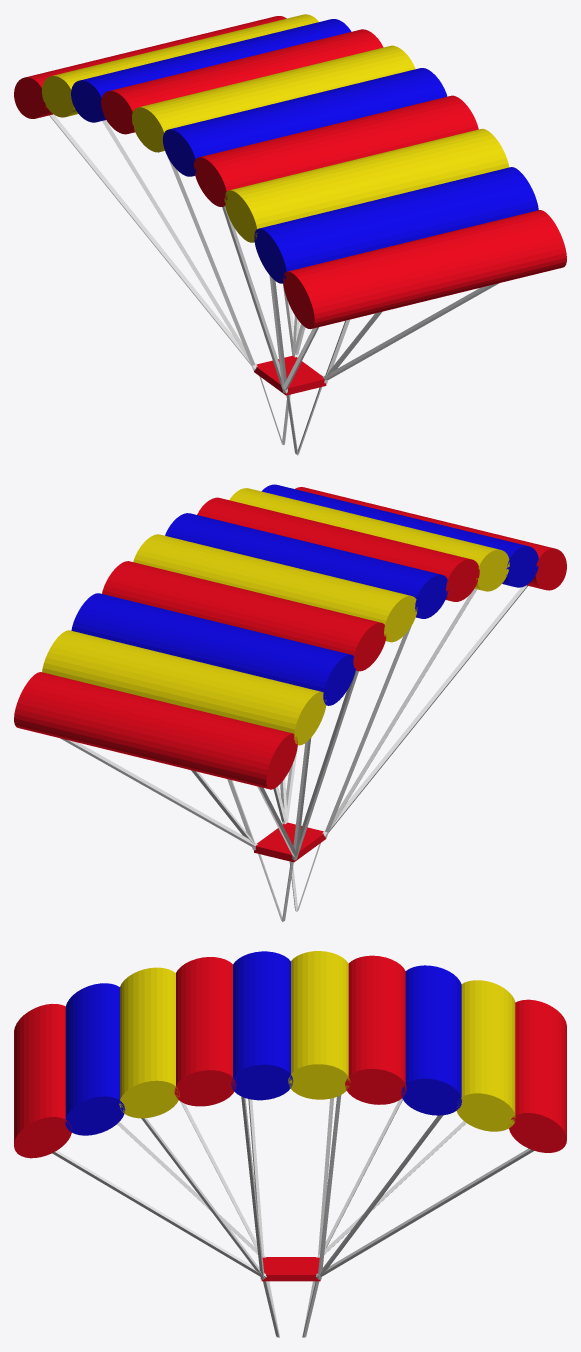
Rendered from Parachute.fbx.
3 views of the same model, one above another, from view 1: azimuth 30°, elevation 25°; view 2: azimuth 150°, elevation 25°; view 3: azimuth 270°, elevation 25° (orthographic). The views are drawn at different scales.
Visible parts, largest first — view 1: Cylinder, Cylinder.001, Cylinder.002, Cylinder.003, Cylinder.004, Cylinder.005, Cylinder.006, Cylinder.007, Cylinder.008, Cube.001, Cylinder.009, Cube.002 (+3 smaller); view 2: Cylinder.009, Cylinder.008, Cylinder.007, Cylinder.006, Cylinder.005, Cylinder.004, Cylinder.003, Cylinder.002, Cylinder.001, Cube.001, Cube.002, Cube.003 (+3 smaller); view 3: Cylinder.006, Cylinder.004, Cylinder.005, Cylinder.003, Cylinder.007, Cylinder.002, Cylinder.001, Cylinder.008, Cylinder, Cylinder.009, Cube.001, Cube.003 (+3 smaller).
Part boxes in pixels (x1,y1,x2,y2): Cylinder: (283, 210, 566, 329); Cylinder.001: (254, 167, 538, 283); Cylinder.002: (224, 128, 509, 242); Cylinder.003: (193, 95, 478, 206); Cylinder.004: (162, 68, 447, 176); Cylinder.005: (132, 45, 415, 152); Cylinder.006: (101, 29, 383, 134); Cylinder.007: (71, 19, 351, 122); Cylinder.008: (42, 14, 318, 117); Cube.001: (49, 114, 498, 390); Cylinder.009: (14, 16, 286, 118); Cube.002: (168, 158, 349, 393); Cylinder.009: (14, 672, 297, 789); Cylinder.008: (42, 630, 326, 745); Cylinder.007: (71, 593, 355, 705); Cylinder.006: (102, 561, 386, 671); Cylinder.005: (133, 534, 417, 642); Cylinder.004: (165, 513, 448, 618); Cylinder.003: (197, 497, 479, 601); Cylinder.002: (229, 488, 509, 591); Cylinder.001: (261, 484, 538, 587); Cube.001: (60, 585, 527, 857); Cube.002: (227, 626, 411, 860); Cube.003: (191, 588, 476, 855); Cylinder.006: (345, 955, 406, 1104); Cylinder.004: (231, 951, 293, 1100); Cylinder.005: (288, 951, 350, 1099); Cylinder.003: (174, 957, 236, 1106); Cylinder.007: (401, 965, 461, 1115); Cylinder.002: (119, 967, 179, 1118); Cylinder.001: (65, 983, 125, 1135); Cylinder.008: (456, 980, 515, 1131); Cylinder: (14, 1004, 71, 1158); Cylinder.009: (509, 999, 566, 1152); Cube.001: (52, 1121, 534, 1277); Cube.003: (141, 1098, 443, 1278).
Size of the model in its own units: 1366 by 1857 by 2821.
